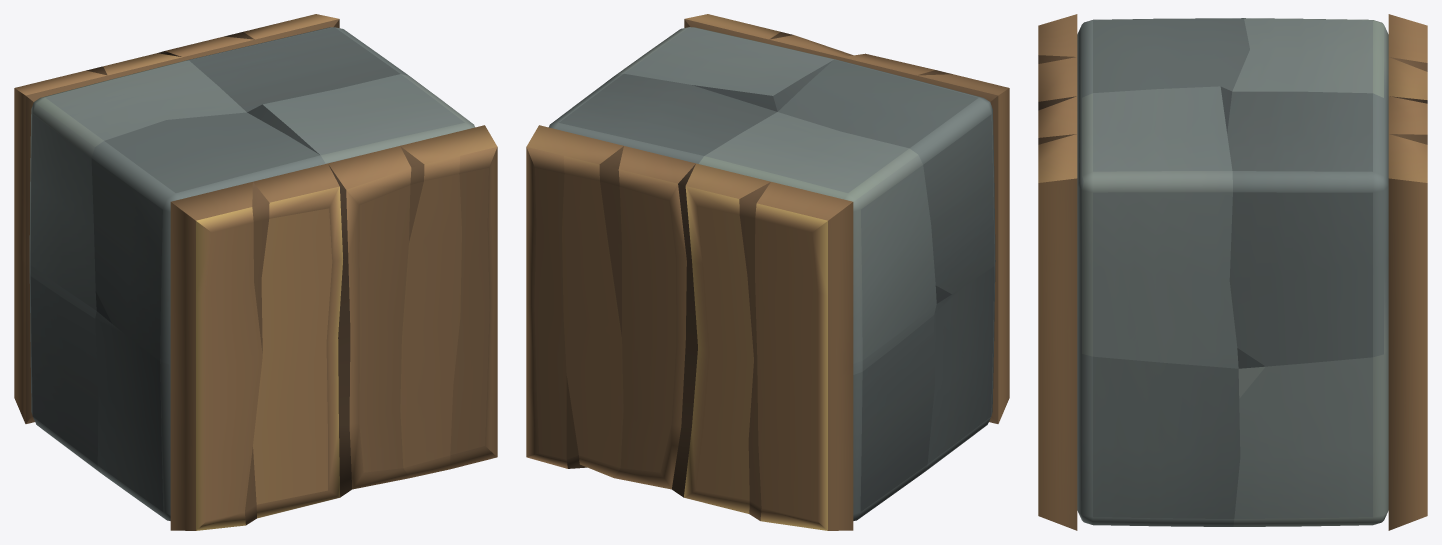
Rendered from tavern_wall_block.fbx.
3 renders of one model, left to right at view 1: azimuth 30°, elevation 25°; view 2: azimuth 150°, elevation 25°; view 3: azimuth 270°, elevation 25°, orthographic. The views are drawn at different scales.
Parts seen in each view (by area): view 1: tavern_wall_block_LOD0; view 2: tavern_wall_block_LOD0; view 3: tavern_wall_block_LOD0.
Boxes of the visible parts, left/top/right/bottom form: tavern_wall_block_LOD0: left=14, top=14, right=497, bottom=530; tavern_wall_block_LOD0: left=526, top=14, right=1009, bottom=530; tavern_wall_block_LOD0: left=1038, top=14, right=1427, bottom=530.
Size of what is drawn, in the model's own units: 104 by 105 by 100.
